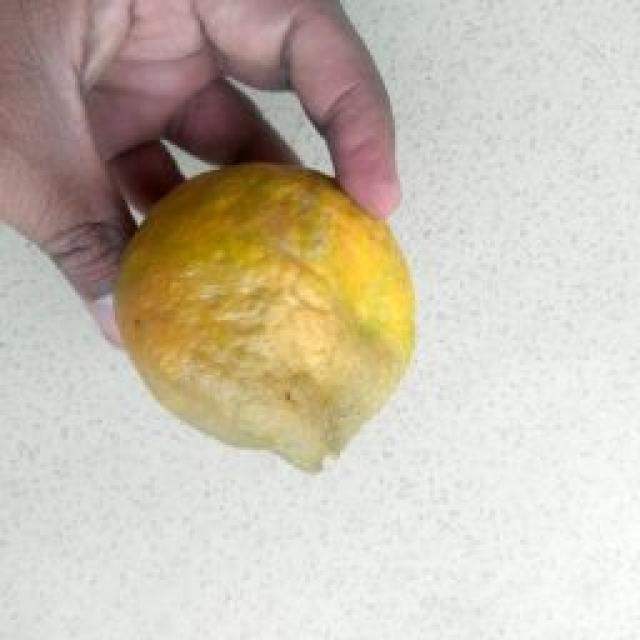Bad_Orange: (115, 165, 414, 468)
